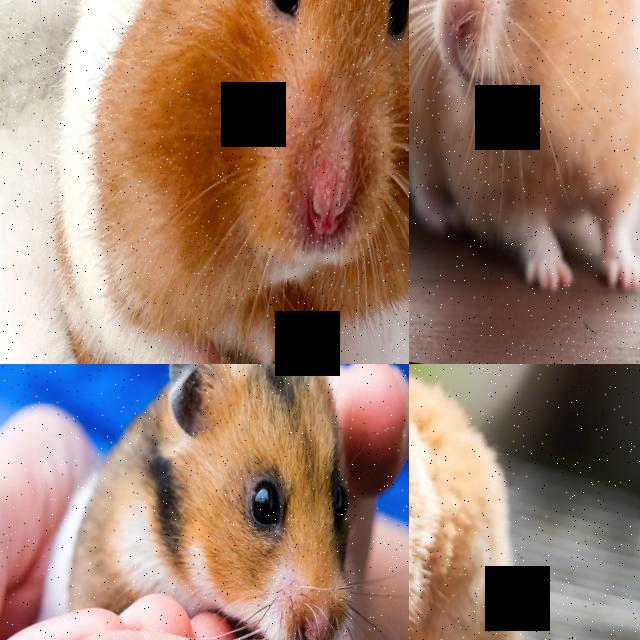hamster: (17, 0, 409, 364), (33, 364, 381, 640), (409, 0, 640, 304), (409, 364, 551, 640)
